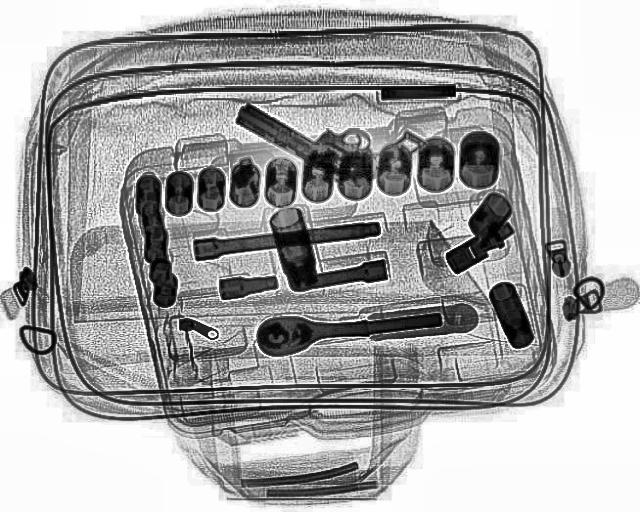Gun: (227, 64, 431, 198)
